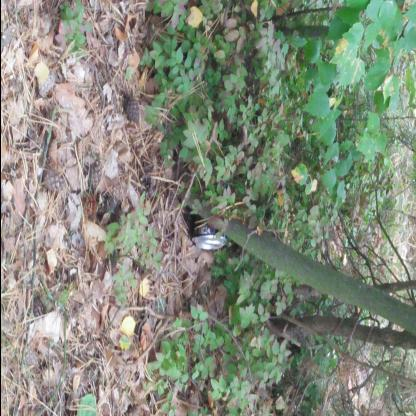metal: (166, 190, 202, 228)
